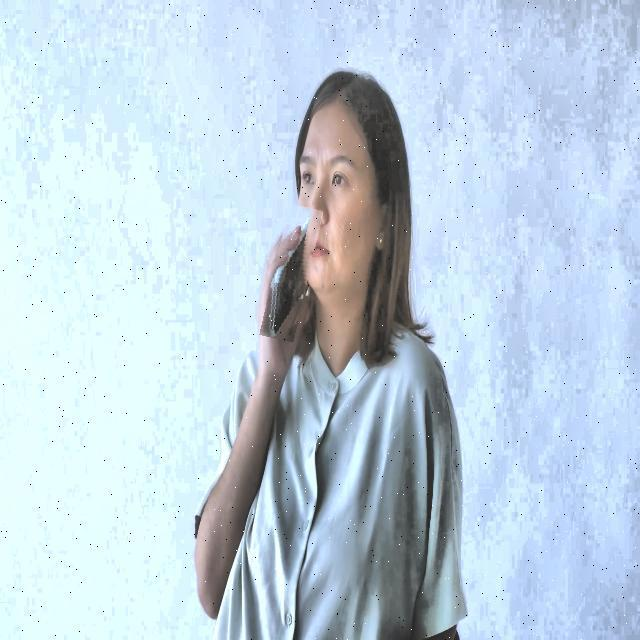Phone: (266, 204, 316, 341)
